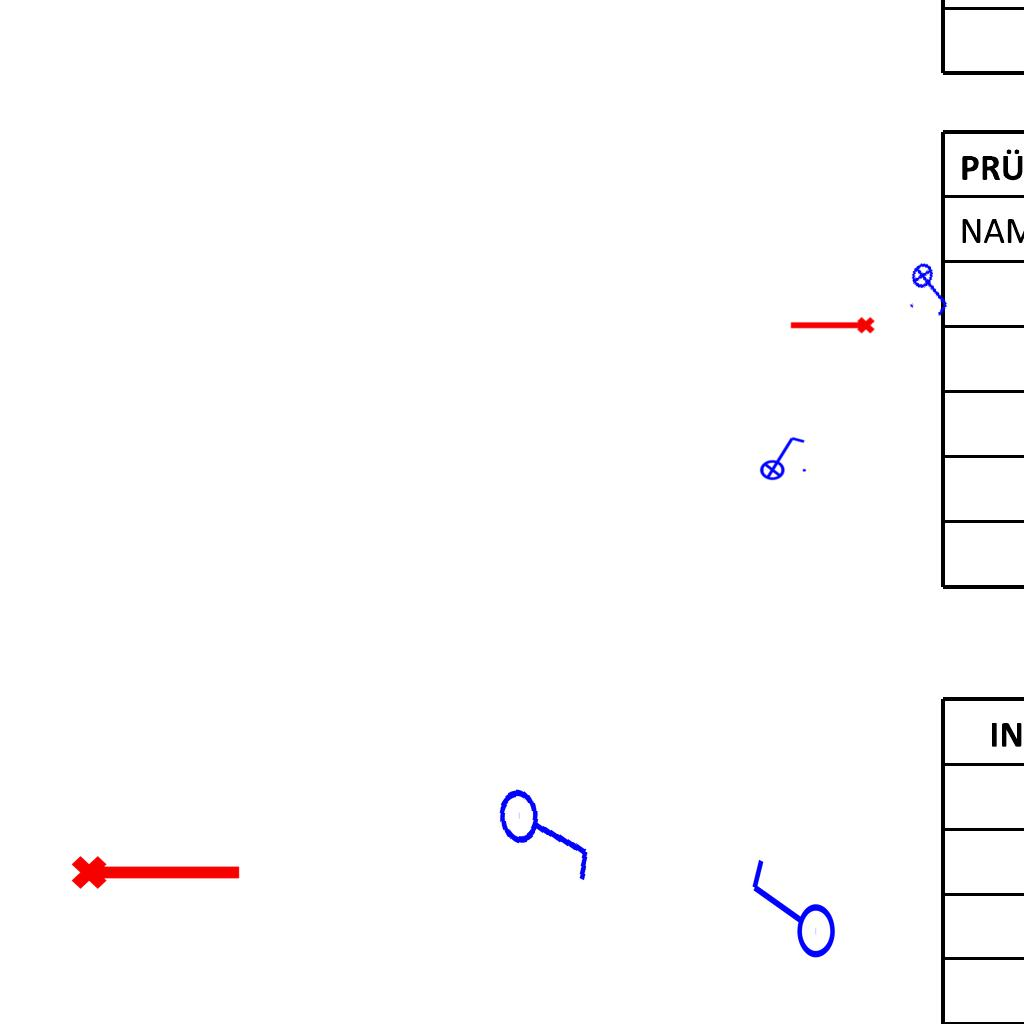ASR_Ansaugoeffnung: (69, 847, 245, 893), (788, 315, 876, 338)
Ausschalter: (492, 769, 602, 893), (742, 857, 838, 969)
Ausschalter_beleuchtet: (900, 253, 964, 323), (753, 433, 809, 481)
